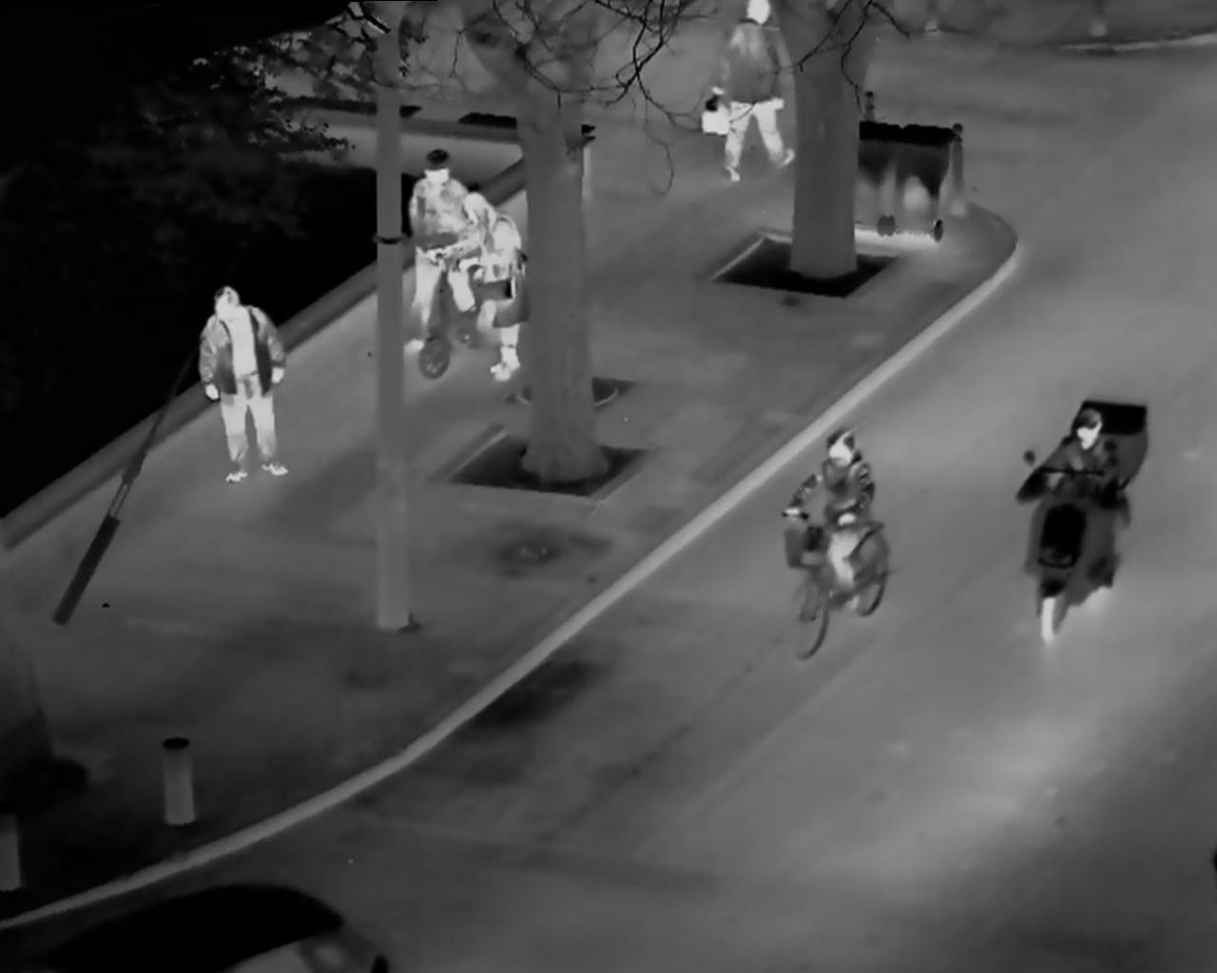person: (1005, 366, 1151, 647), (776, 417, 896, 658), (183, 274, 310, 481), (706, 2, 797, 186), (450, 194, 530, 373), (413, 139, 480, 312)
